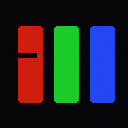3 line_h: (18, 53, 36, 57)
